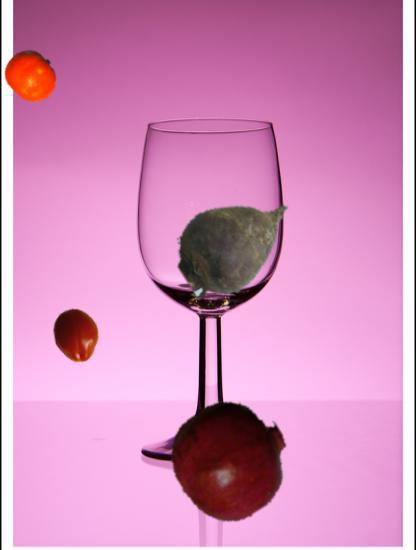Beetroot: (170, 174, 305, 309)
Clementine: (4, 49, 59, 104)
Pomegranate: (171, 400, 292, 521)
Tomato: (49, 308, 105, 364)
